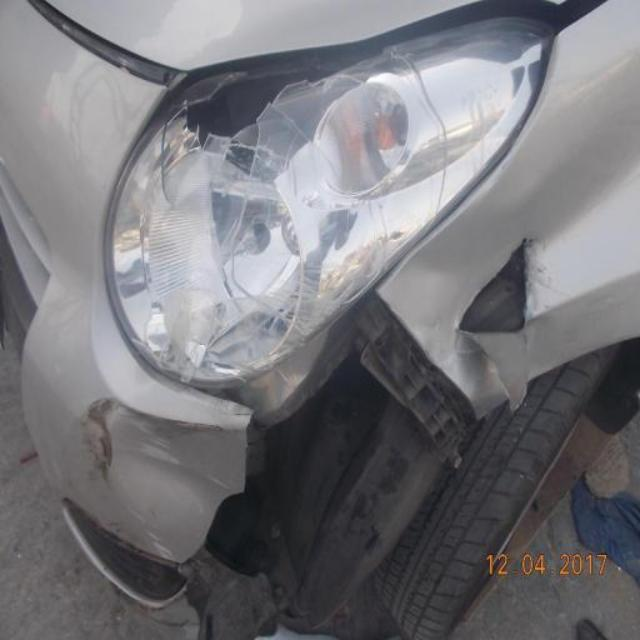crack: (455, 237, 535, 338)
dent: (422, 325, 531, 419)
lamp broken: (159, 25, 404, 152)
no part: (177, 292, 481, 640)
scratch: (106, 393, 227, 439), (76, 394, 120, 480)
